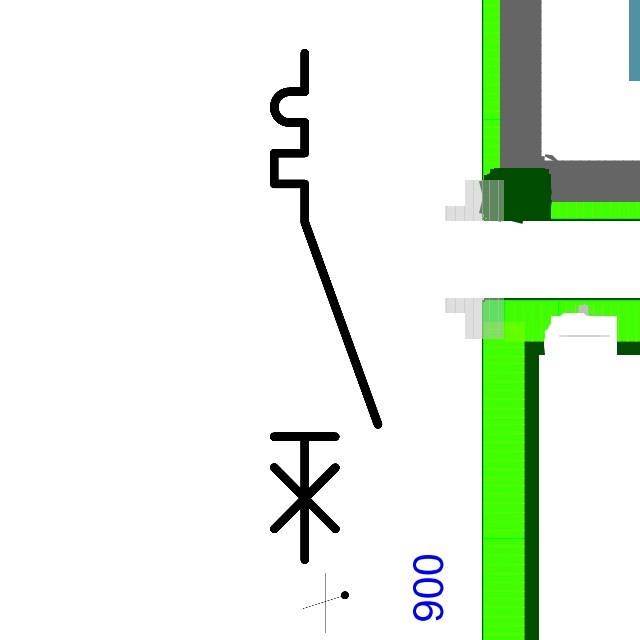interruptor_termomagnetico: (261, 40, 391, 572)
